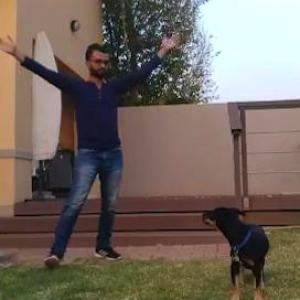takeoff: (1, 30, 190, 269)
